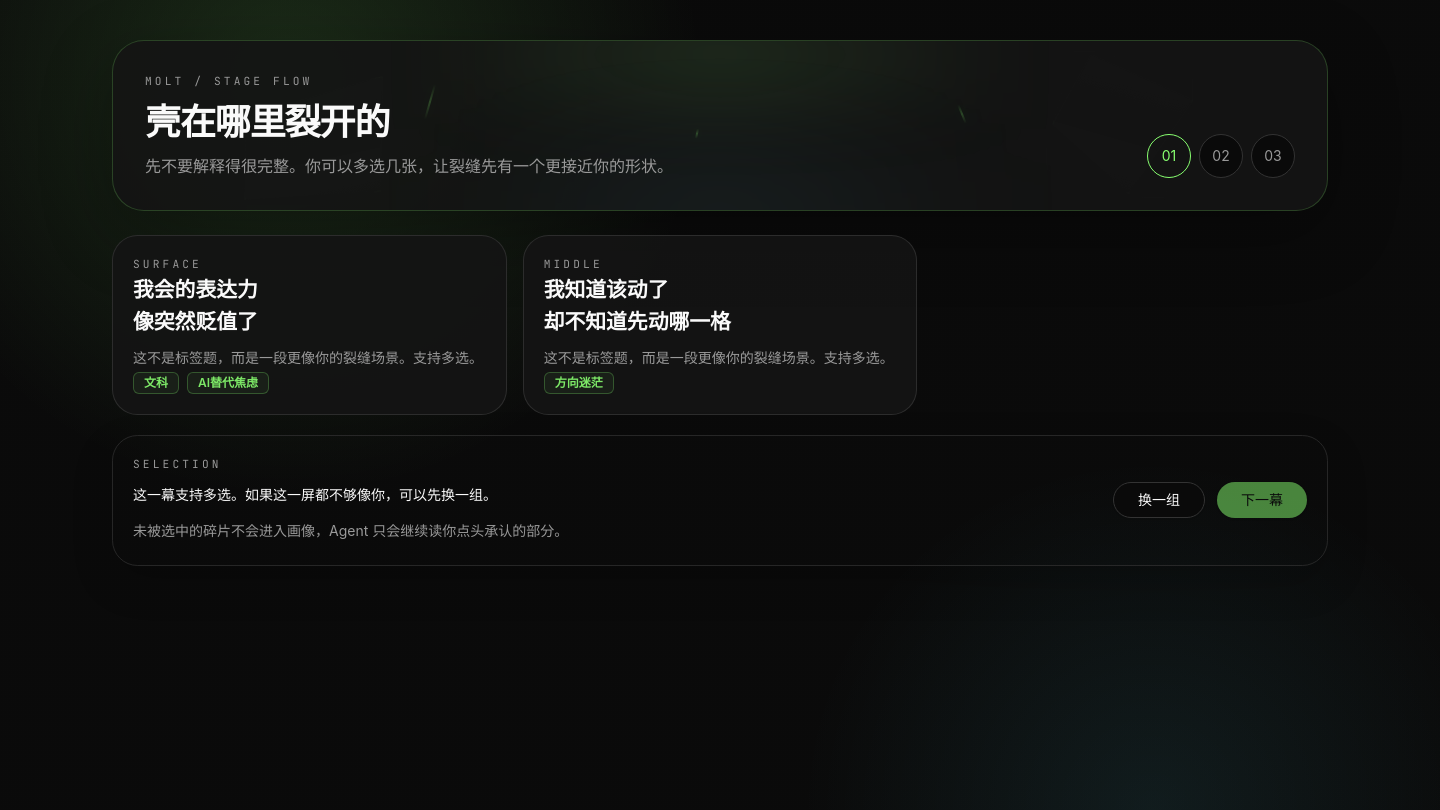
Scenario: Conversation Page v3.3 › advances to act 2 after selecting an act 1 card
The image size is (1440, 810).
Click the button with test id "molt-card-act1" at x=167, y=264, box [112, 235, 507, 415]
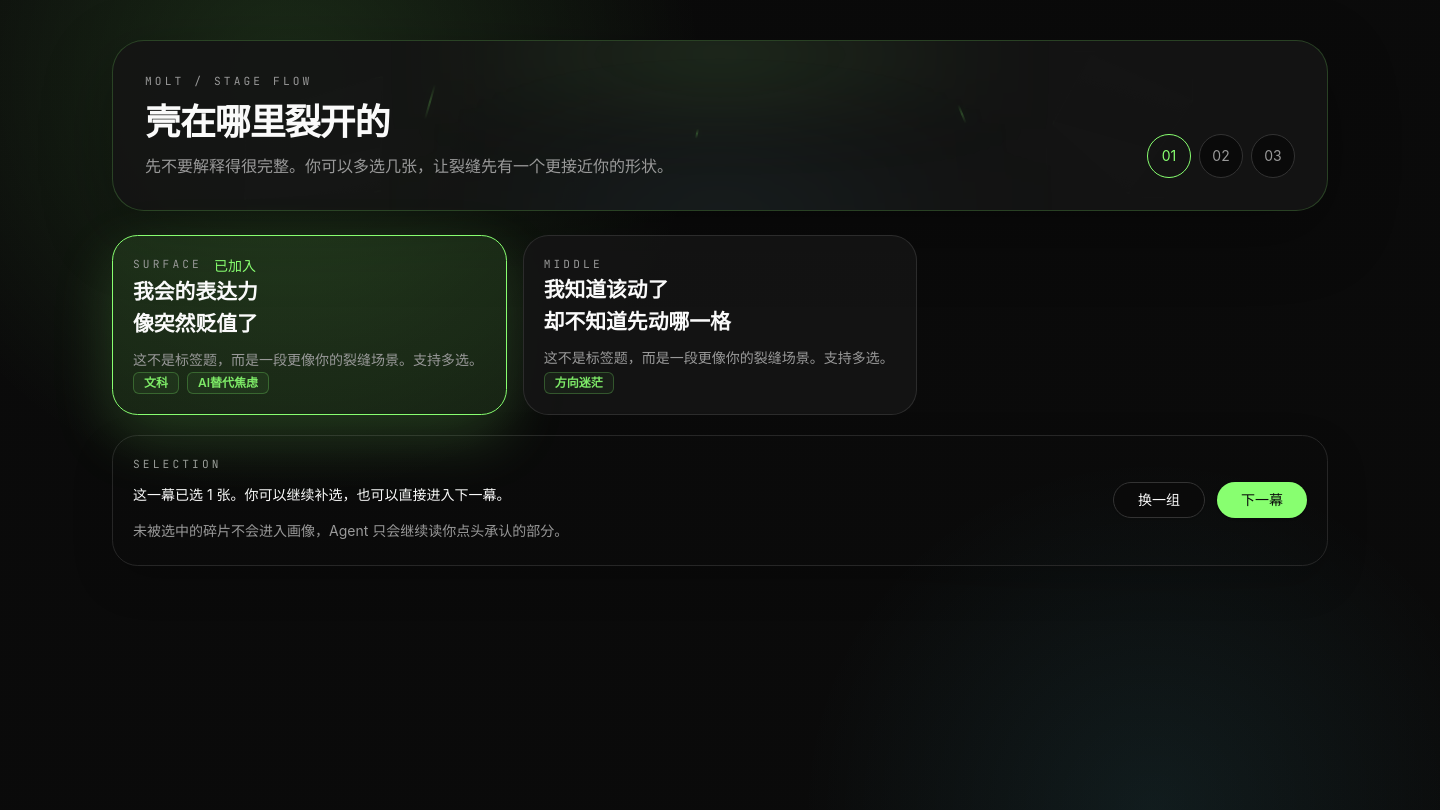
Click the button "下一幕" at x=1262, y=500, box [1217, 482, 1307, 518]
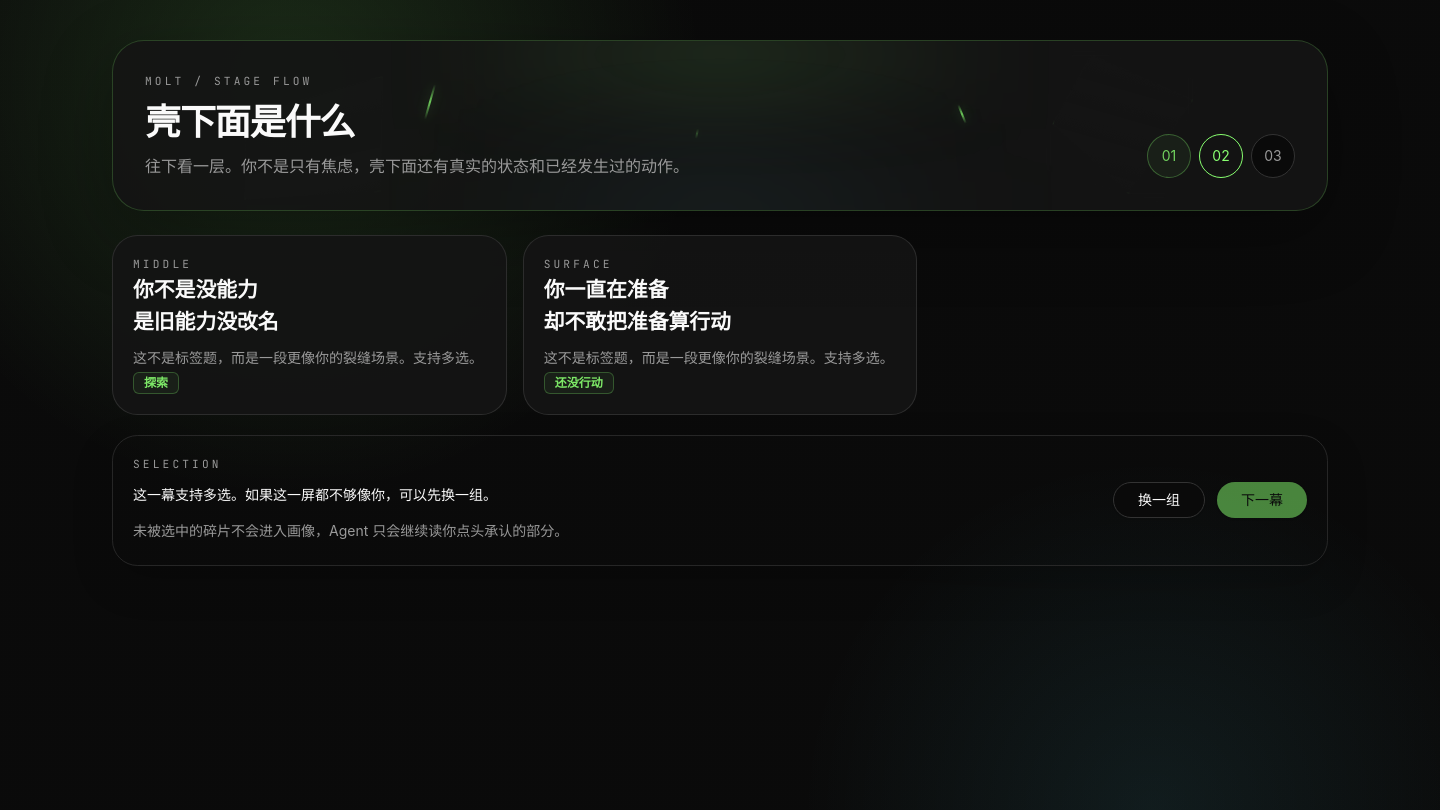
Result: the heading "壳下面是什么" is shown at [145, 100, 354, 144]
Result: the text "你不是没能力" is shown at [133, 277, 258, 302]
